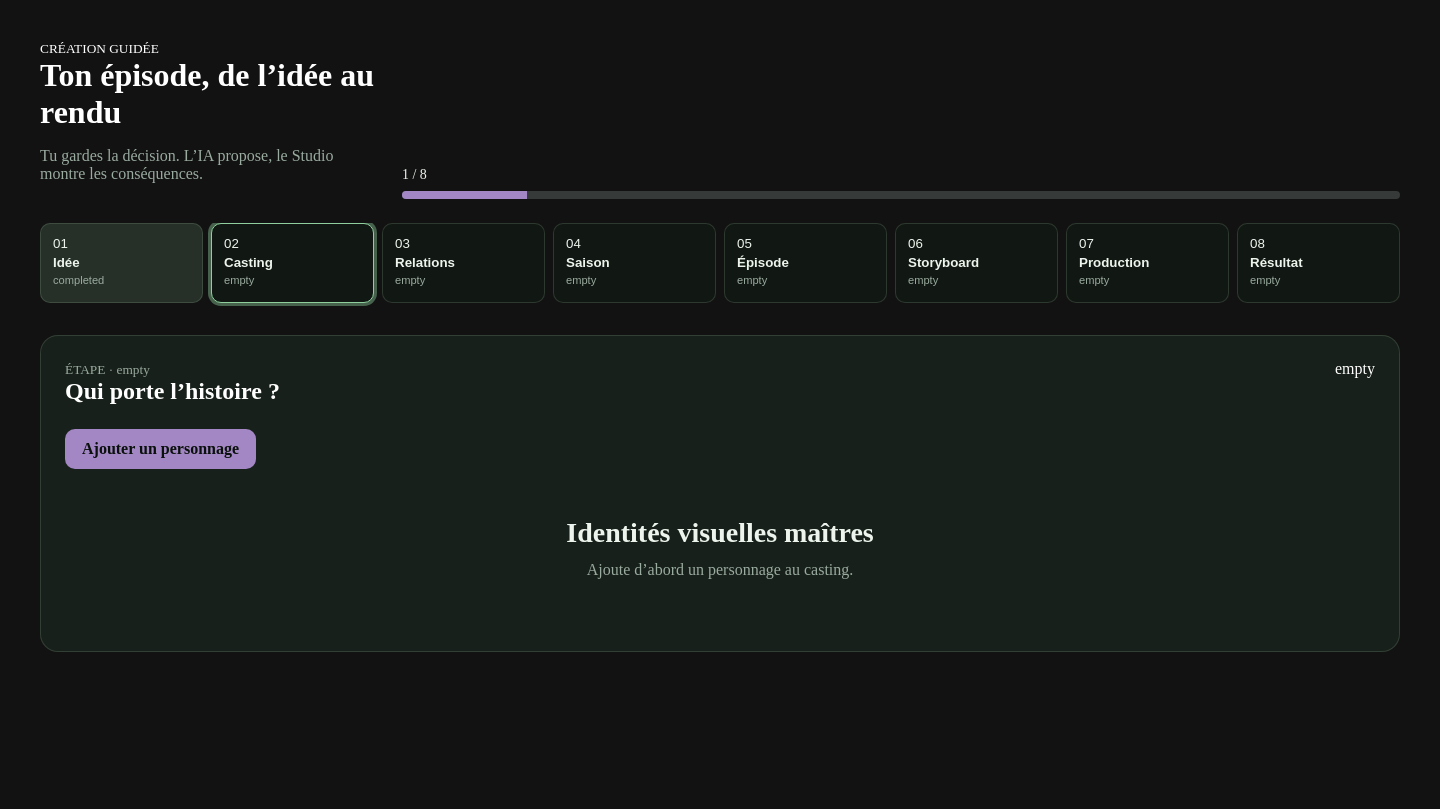
Test case: GuidedJourney › explains an optimistic revision conflict
Click the button "01 Idée completed".
click(122, 263)  # box top-left (40, 223), bottom-right (203, 303)
(page scrolled)
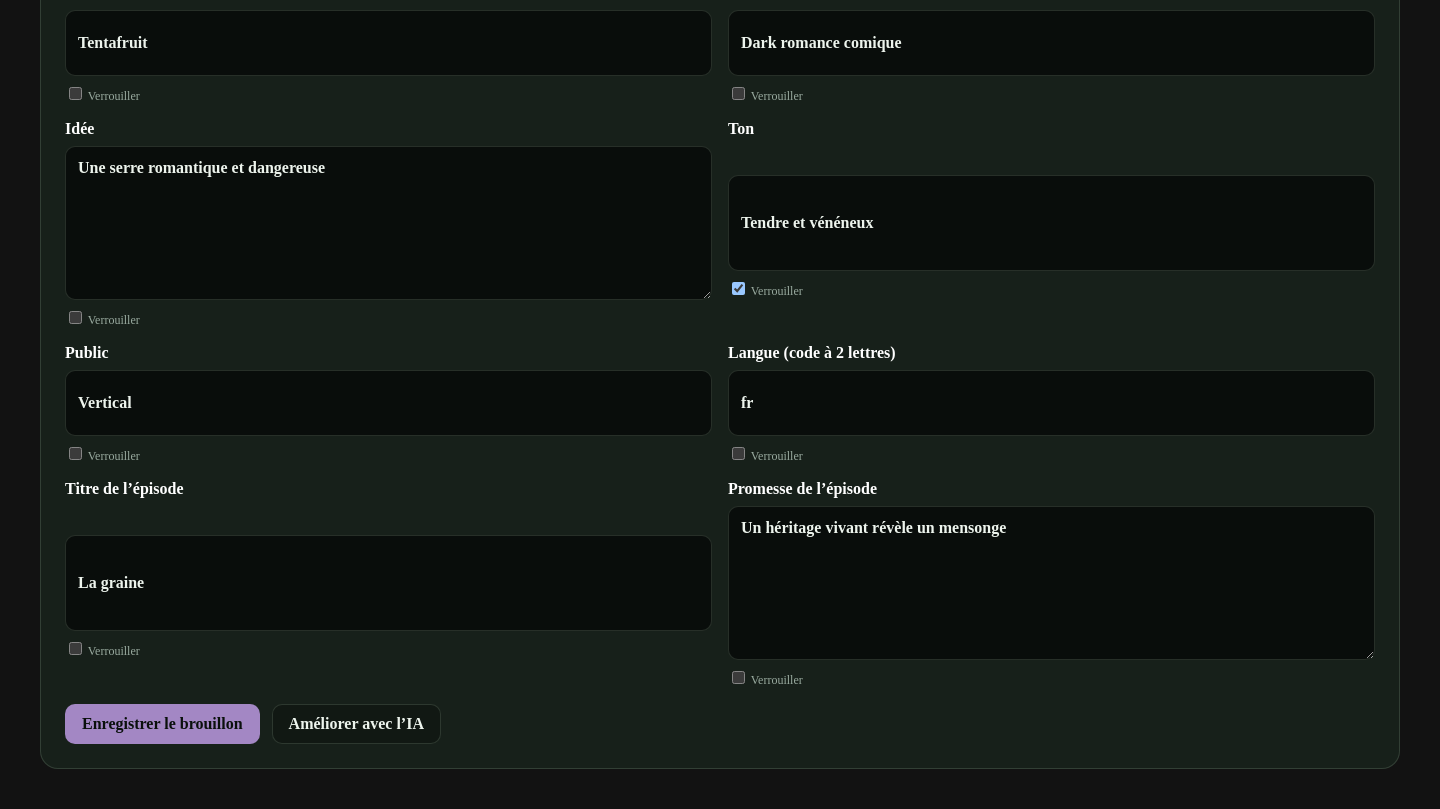
Click the button "Enregistrer le brouillon".
click(162, 724)  # box top-left (65, 704), bottom-right (260, 744)
(page scrolled)
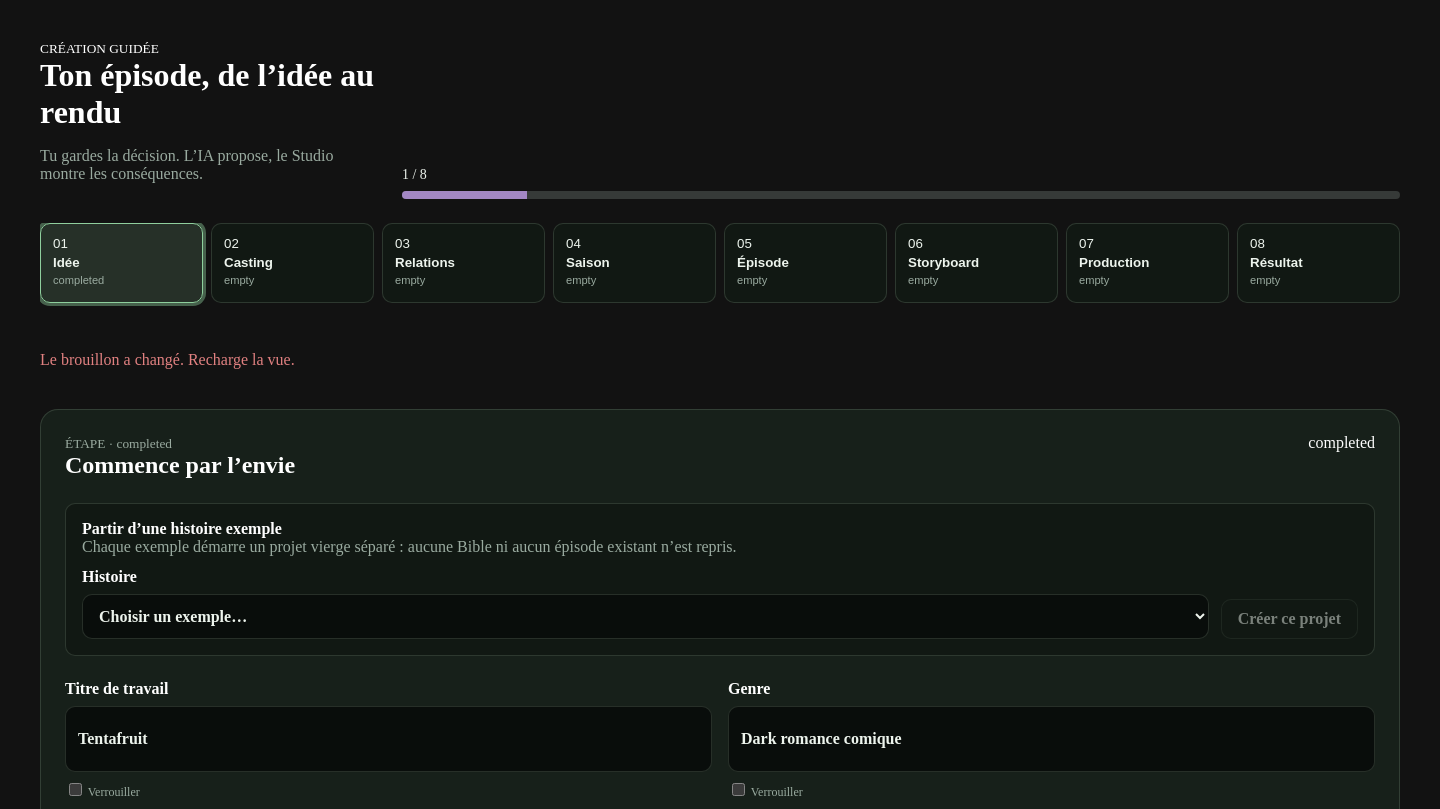
expect the message shows "Le brouillon a changé": met, box top-left (40, 351), bottom-right (295, 368)
